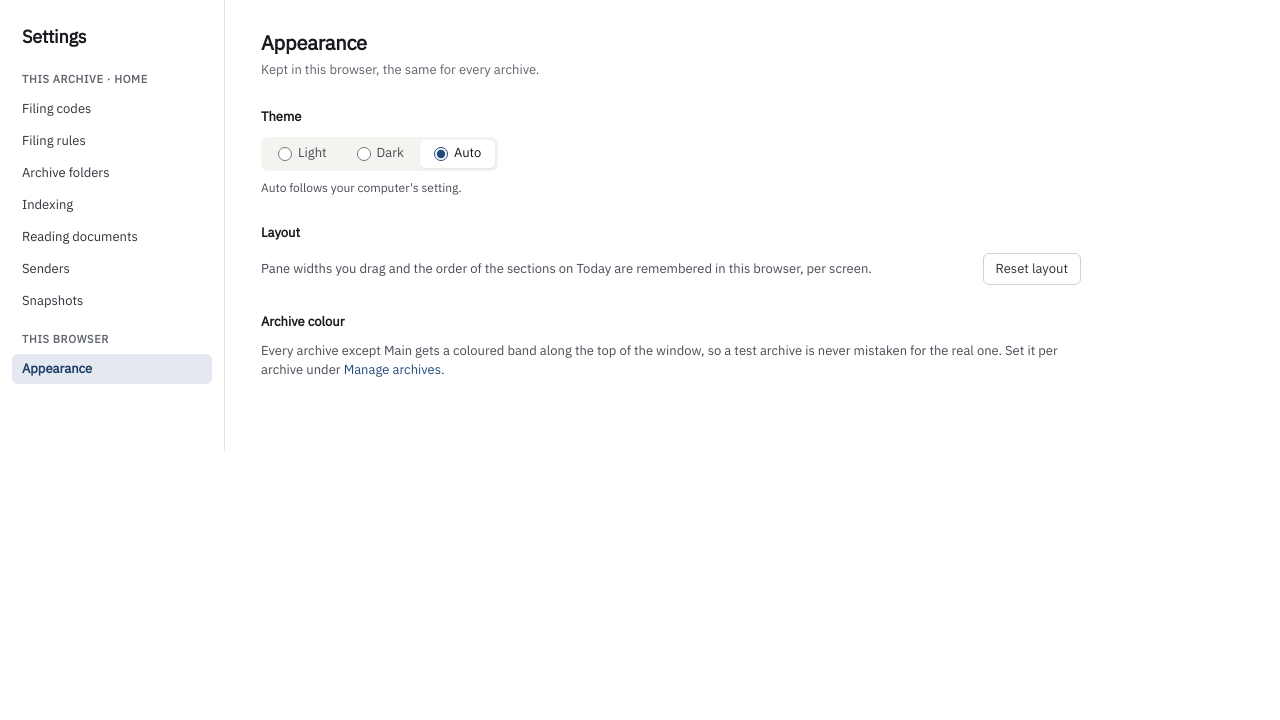
it: Settings › Reset layout says so when there is nothing to reset
Click the button "Reset layout": (1032, 269) [983,253,1081,285]
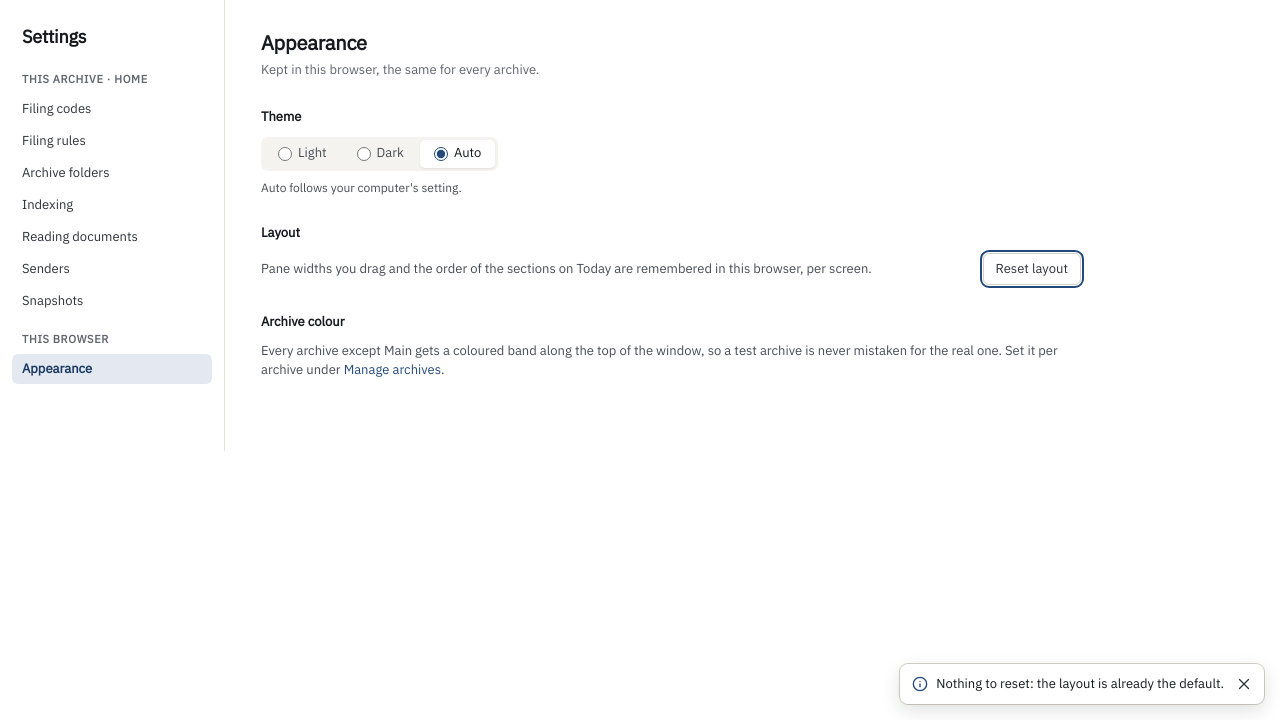
Expected: the text "Nothing to reset: the layout is already the default." is shown, [936,675,1224,693]
